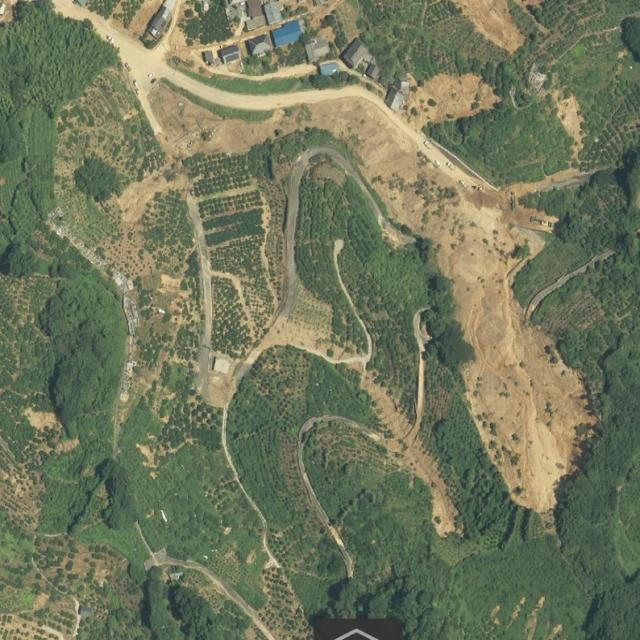landslide: (152, 93, 597, 533)
